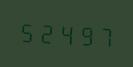five: (18, 17, 36, 45)
four: (56, 19, 74, 47)
nine: (75, 20, 93, 48)
seven: (94, 21, 112, 49)
two: (37, 18, 55, 46)
